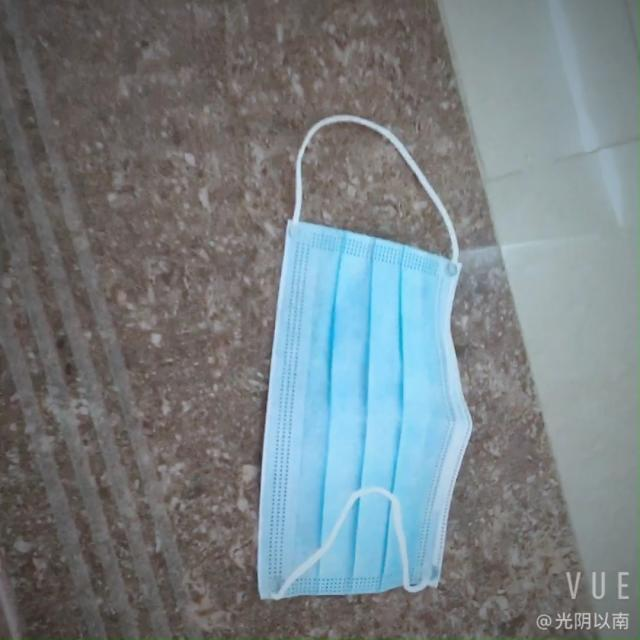face mask: (226, 204, 472, 614)
